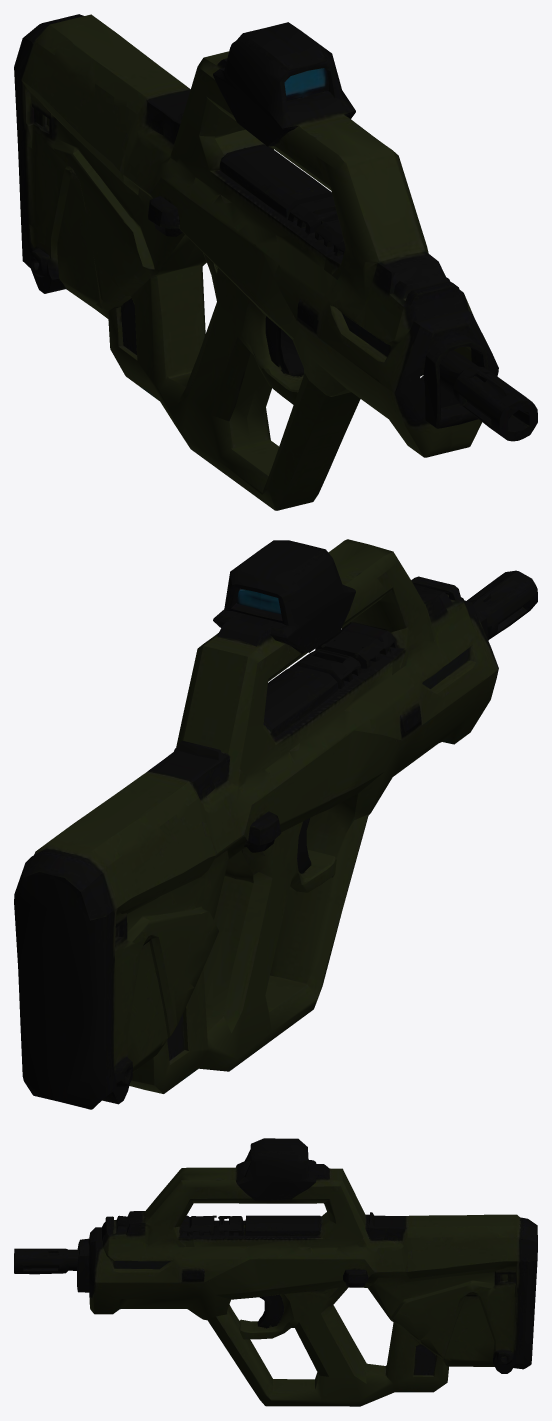
The model's file is bullpup_rifle_low.glb.
The picture shows the model from 3 angles, top to bottom: view 1: azimuth 30°, elevation 25°; view 2: azimuth 150°, elevation 25°; view 3: azimuth 270°, elevation 25°; orthographic projection. The views are drawn at different scales.
Parts seen in each view (by area): view 1: world; view 2: world; view 3: world.
Part boxes in pixels (x1,y1,x2,y2): world: (14, 14, 537, 510); world: (14, 539, 537, 1109); world: (14, 1138, 537, 1406).
Bounding box in the file's own units: 0.1534 × 0.5428 × 1.
Materials: 1 (1 with a texture image).
